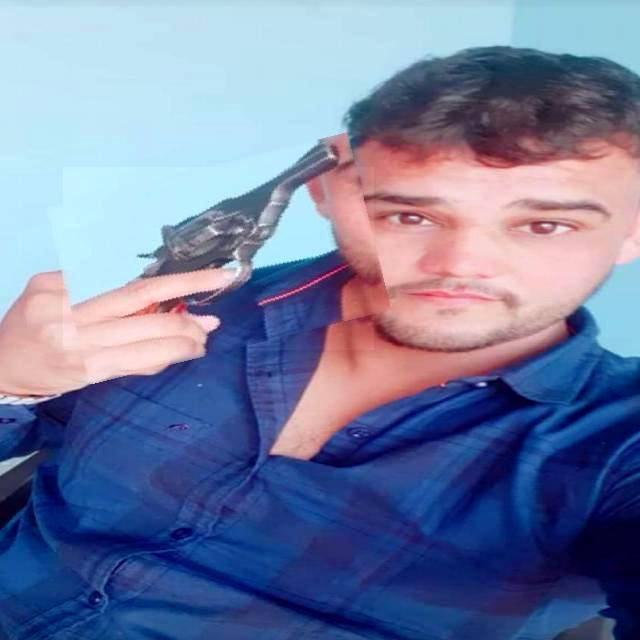pistol: (130, 138, 346, 314)
